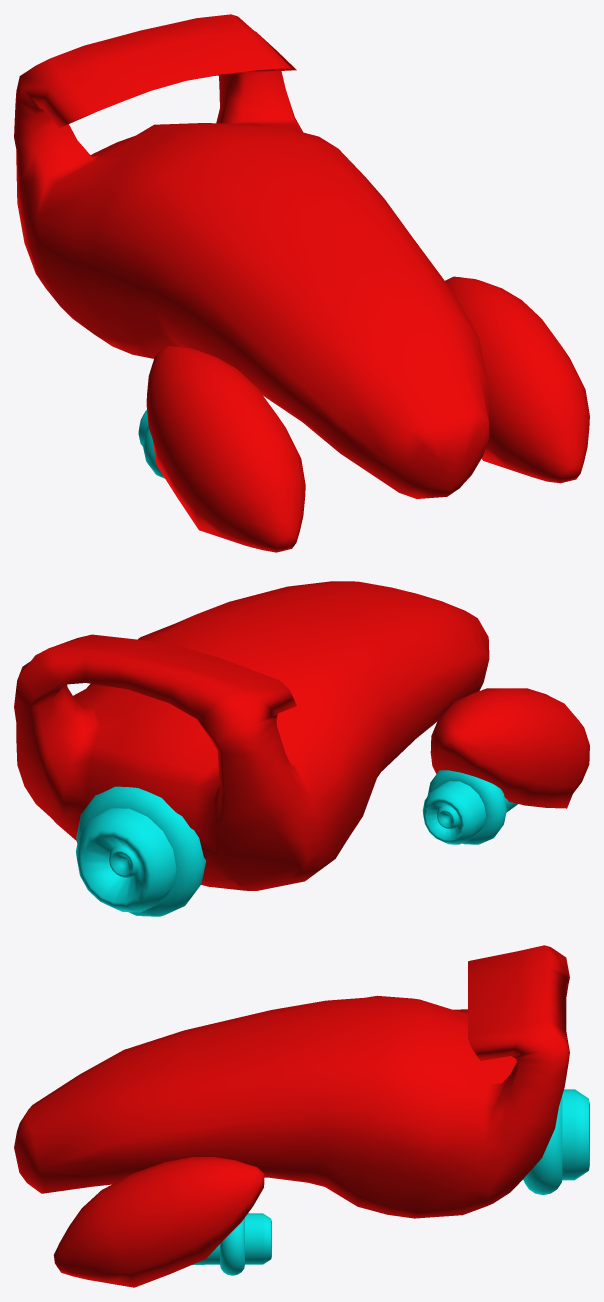
The model's file is RJ21_Vehicle 1.fbx.
3 views of the same model, one above another, from view 1: azimuth 30°, elevation 25°; view 2: azimuth 150°, elevation 25°; view 3: azimuth 270°, elevation 25° (orthographic). The views are drawn at different scales.
Parts seen in each view (by area): view 1: body, zwoops (×2); view 2: body, zwoops, back_engine, outer_engine_ring, small_engines, small_engine_rings, pTorus6; view 3: body, zwoops, back_engine, outer_engine_ring, small_engines, small_engine_rings.
Boxes of the visible parts, x1=… form: body: x1=14, y1=14, x2=489, y2=498; zwoops (×2): x1=146, y1=276, x2=589, y2=552; body: x1=14, y1=581, x2=489, y2=890; zwoops: x1=430, y1=688, x2=589, y2=808; back_engine: x1=76, y1=808, x2=176, y2=912; outer_engine_ring: x1=76, y1=786, x2=205, y2=916; small_engines: x1=422, y1=781, x2=517, y2=844; small_engine_rings: x1=427, y1=770, x2=506, y2=844; pTorus6: x1=108, y1=846, x2=137, y2=878; body: x1=14, y1=945, x2=569, y2=1218; zwoops: x1=53, y1=1157, x2=264, y2=1287; back_engine: x1=522, y1=1089, x2=589, y2=1180; outer_engine_ring: x1=524, y1=1096, x2=562, y2=1194; small_engines: x1=192, y1=1213, x2=271, y2=1264; small_engine_rings: x1=220, y1=1218, x2=244, y2=1275.
Bounding box in the file's own units: 11.09 × 7.52 × 16.62.
